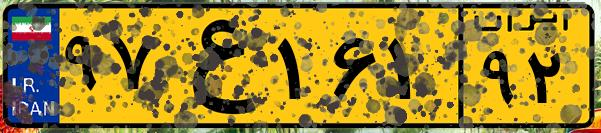1: (270, 28, 330, 110), (385, 28, 445, 110)
2: (525, 38, 570, 115)
6: (330, 28, 385, 110)
7: (110, 28, 158, 98)
9: (57, 26, 110, 100), (475, 38, 525, 113)
ع: (158, 12, 270, 120)
